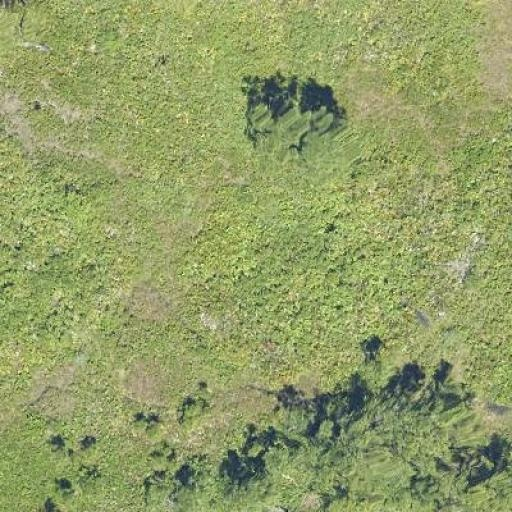tree-top: (296, 378, 470, 498), (242, 84, 367, 172), (451, 440, 512, 512), (219, 450, 271, 504), (173, 453, 214, 506), (139, 463, 182, 502), (176, 394, 213, 430)
